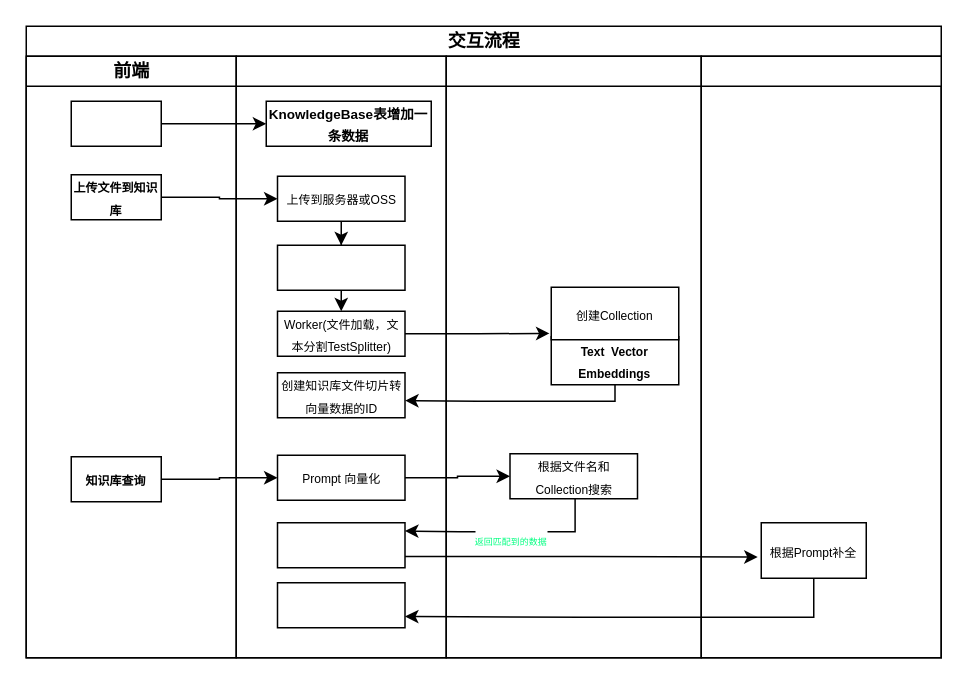
Some shapes in this 968 by 684 pixel diagram are drawn without their labels. The shapes that lost their labels are listed below. From the top down, each one's box as (x1, y1, x2, y2) in pixels, then its label:
(70, 100, 161, 146): 创建知识库
(276, 244, 405, 290): 发送MQ消息
(235, 55, 446, 658): 服务端
(445, 55, 701, 658): 向量数据库(Milvus)
(700, 55, 941, 658): LLM(gpt4/文心一言)
(276, 521, 405, 568): 组装提示词
(276, 581, 405, 628): 返回结果
